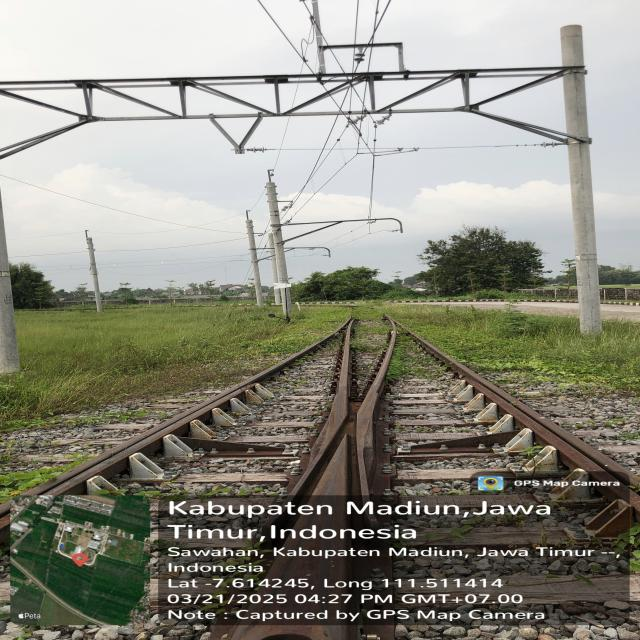rail-detection: (23, 317, 357, 499), (354, 316, 640, 515)
